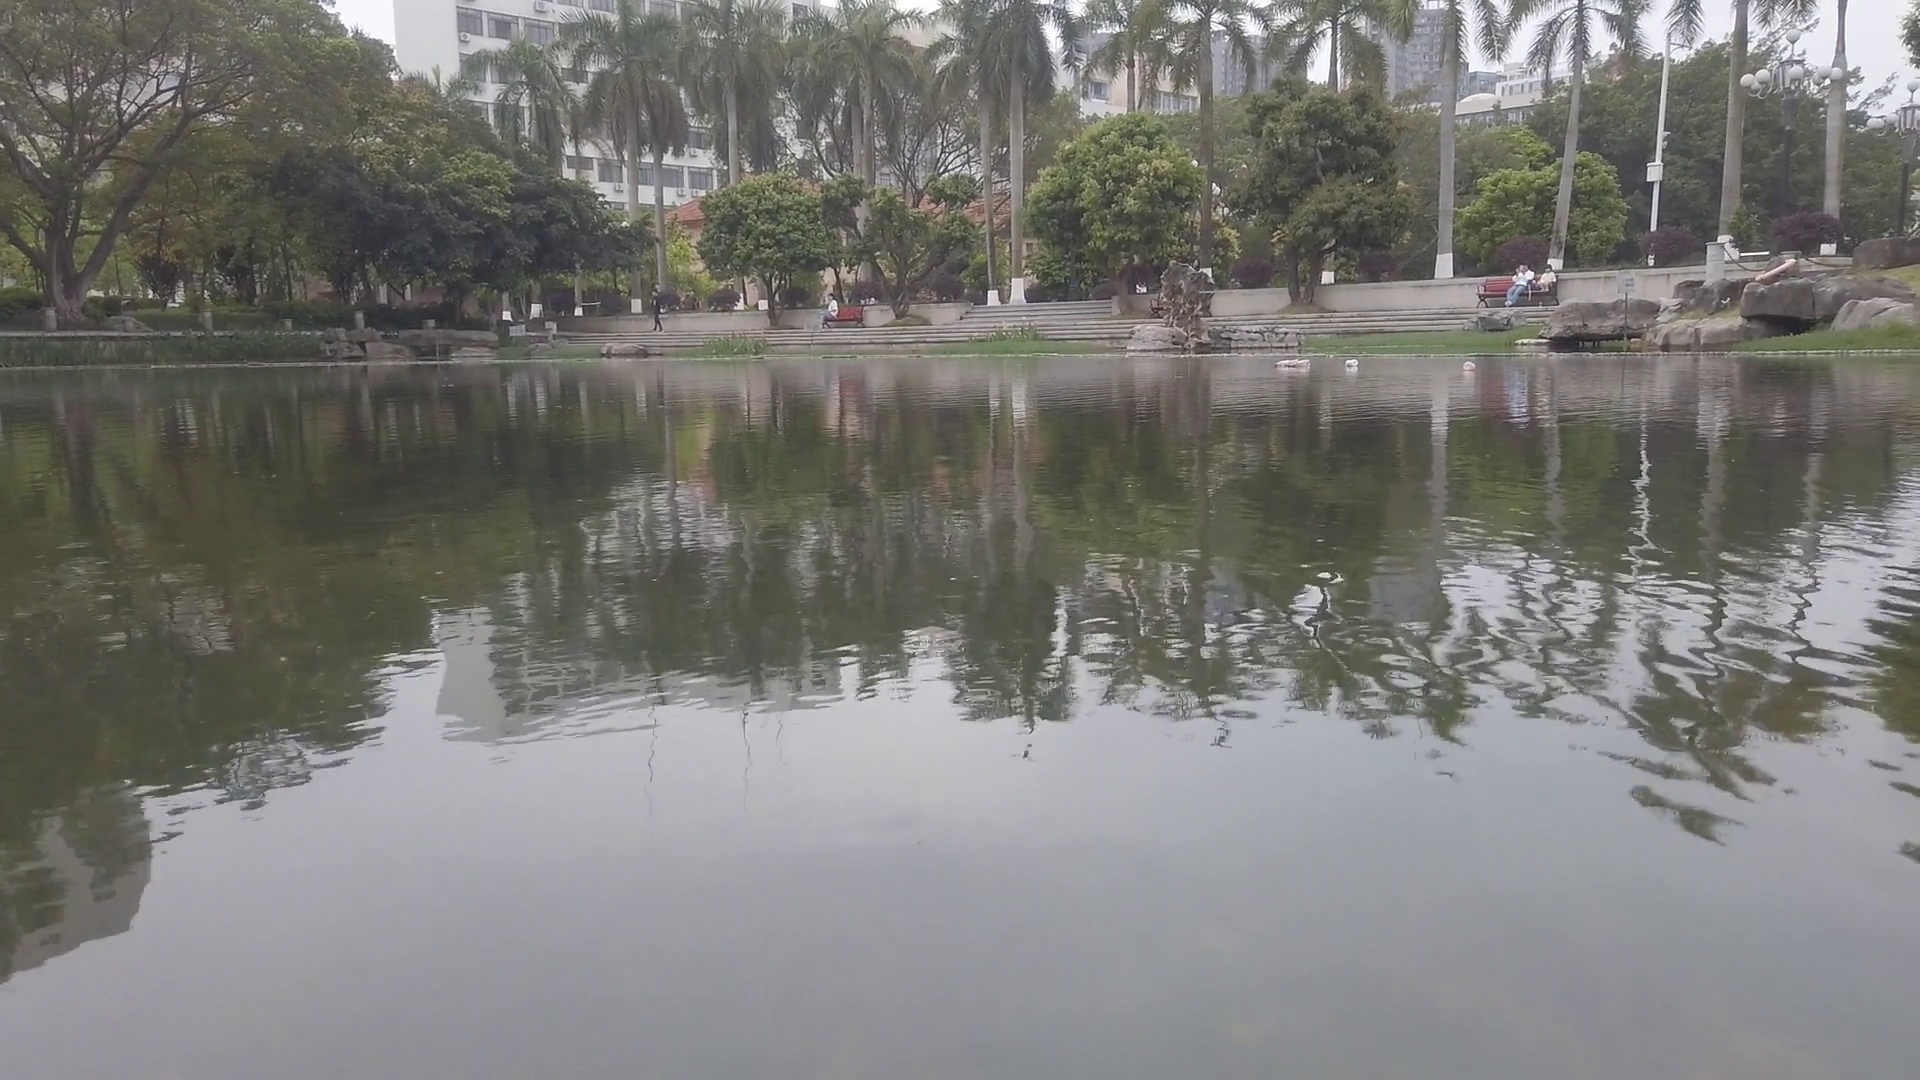bottle: (1288, 360, 1313, 369), (1276, 360, 1299, 369), (1344, 357, 1358, 367), (1462, 363, 1477, 372)
